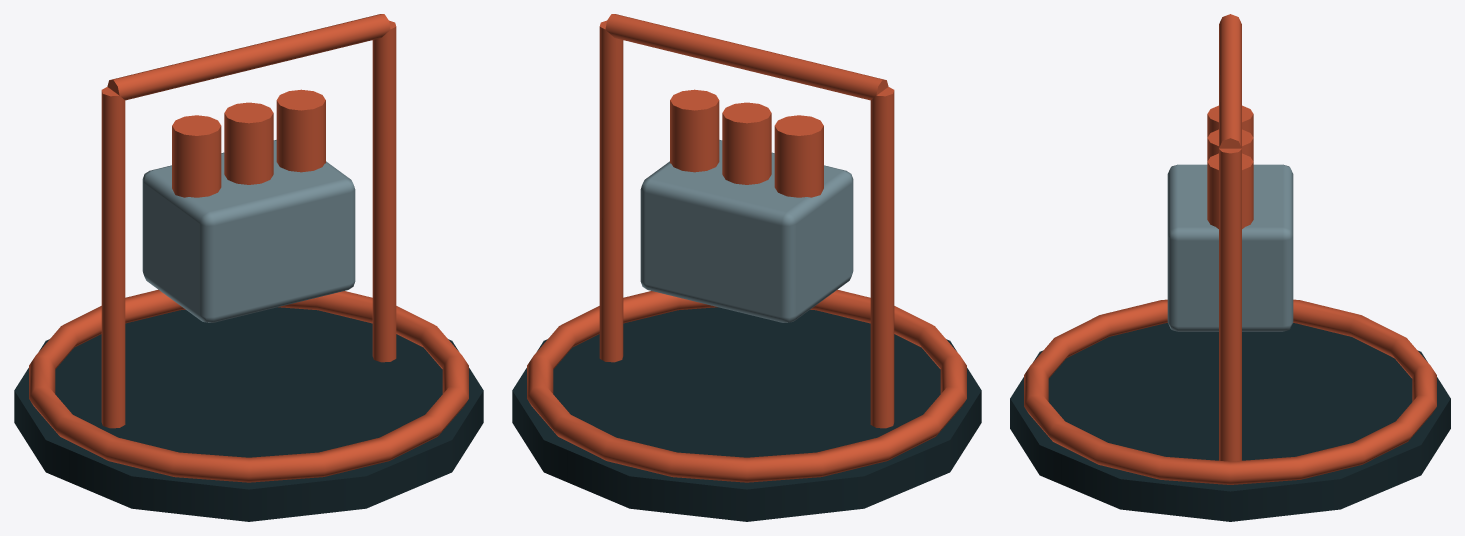
Rendered from pickup-engine.glb.
The picture shows the model from 3 angles, left to right: view 1: azimuth 30°, elevation 25°; view 2: azimuth 150°, elevation 25°; view 3: azimuth 270°, elevation 25°; orthographic projection. The views are drawn at different scales.
Parts seen in each view (by area): view 1: pickup-engine; view 2: pickup-engine; view 3: pickup-engine.
Part boxes in pixels (left/top/right/bottom): pickup-engine: left=14, top=14, right=483, bottom=521; pickup-engine: left=512, top=14, right=981, bottom=521; pickup-engine: left=1010, top=14, right=1450, bottom=521.
Size of the model in its own units: 2.1 by 1.86 by 2.1.
